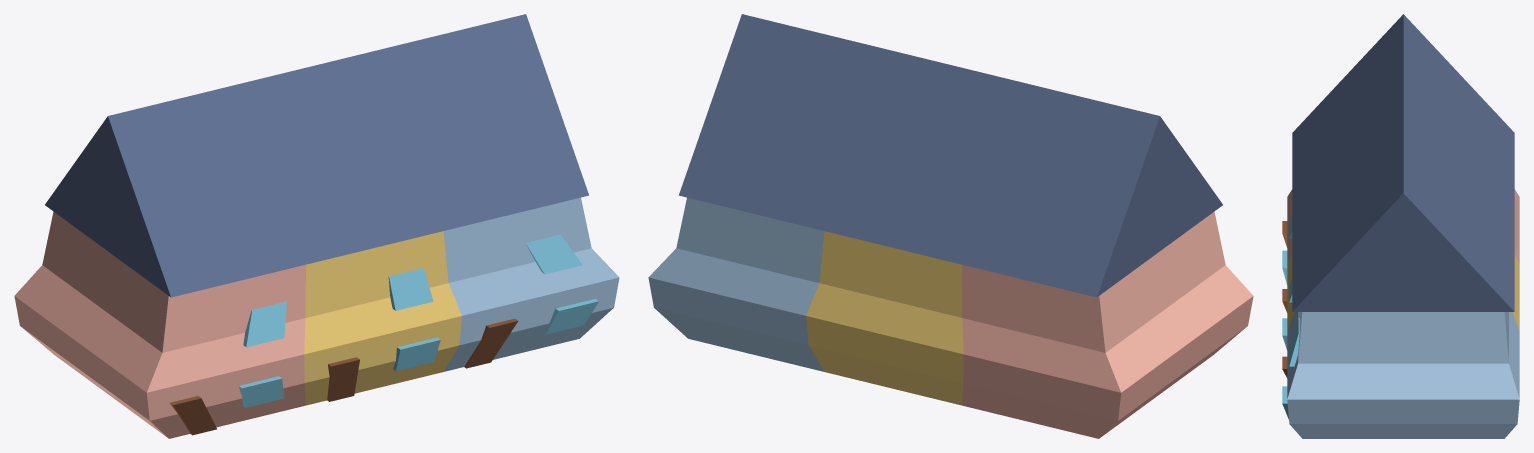
File: terraced_house.glb
3 renders of one model, left to right at view 1: azimuth 30°, elevation 25°; view 2: azimuth 150°, elevation 25°; view 3: azimuth 270°, elevation 25°, orthographic. The views are drawn at different scales.
Parts seen in each view (by area): view 1: terraced_house_roof_slate, terraced_house_wall_pink, terraced_house_wall_yellow, terraced_house_wall_blue, terraced_house_window, terraced_house_door; view 2: terraced_house_roof_slate, terraced_house_wall_pink, terraced_house_wall_yellow, terraced_house_wall_blue; view 3: terraced_house_roof_slate, terraced_house_wall_blue, terraced_house_window, terraced_house_wall_yellow, terraced_house_wall_pink, terraced_house_door.
Boxes of the visible parts, x1=… form: terraced_house_roof_slate: x1=45, y1=14, x2=589, y2=297; terraced_house_wall_pink: x1=14, y1=211, x2=305, y2=438; terraced_house_wall_yellow: x1=304, y1=231, x2=461, y2=405; terraced_house_wall_blue: x1=443, y1=197, x2=619, y2=371; terraced_house_window: x1=238, y1=234, x2=598, y2=407; terraced_house_door: x1=170, y1=318, x2=518, y2=435; terraced_house_roof_slate: x1=678, y1=14, x2=1222, y2=297; terraced_house_wall_pink: x1=962, y1=211, x2=1253, y2=438; terraced_house_wall_yellow: x1=806, y1=231, x2=963, y2=405; terraced_house_wall_blue: x1=648, y1=197, x2=824, y2=371; terraced_house_roof_slate: x1=1292, y1=14, x2=1514, y2=311; terraced_house_wall_blue: x1=1287, y1=312, x2=1519, y2=438; terraced_house_window: x1=1282, y1=216, x2=1299, y2=419; terraced_house_wall_yellow: x1=1287, y1=254, x2=1519, y2=330; terraced_house_wall_pink: x1=1287, y1=189, x2=1519, y2=263; terraced_house_door: x1=1282, y1=221, x2=1287, y2=377.
Size of the model in its own units: 19.75 by 11.25 by 9.79.
